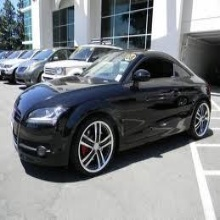no damage: (11, 49, 212, 178), (42, 43, 122, 79), (15, 48, 66, 83), (1, 47, 29, 79)
